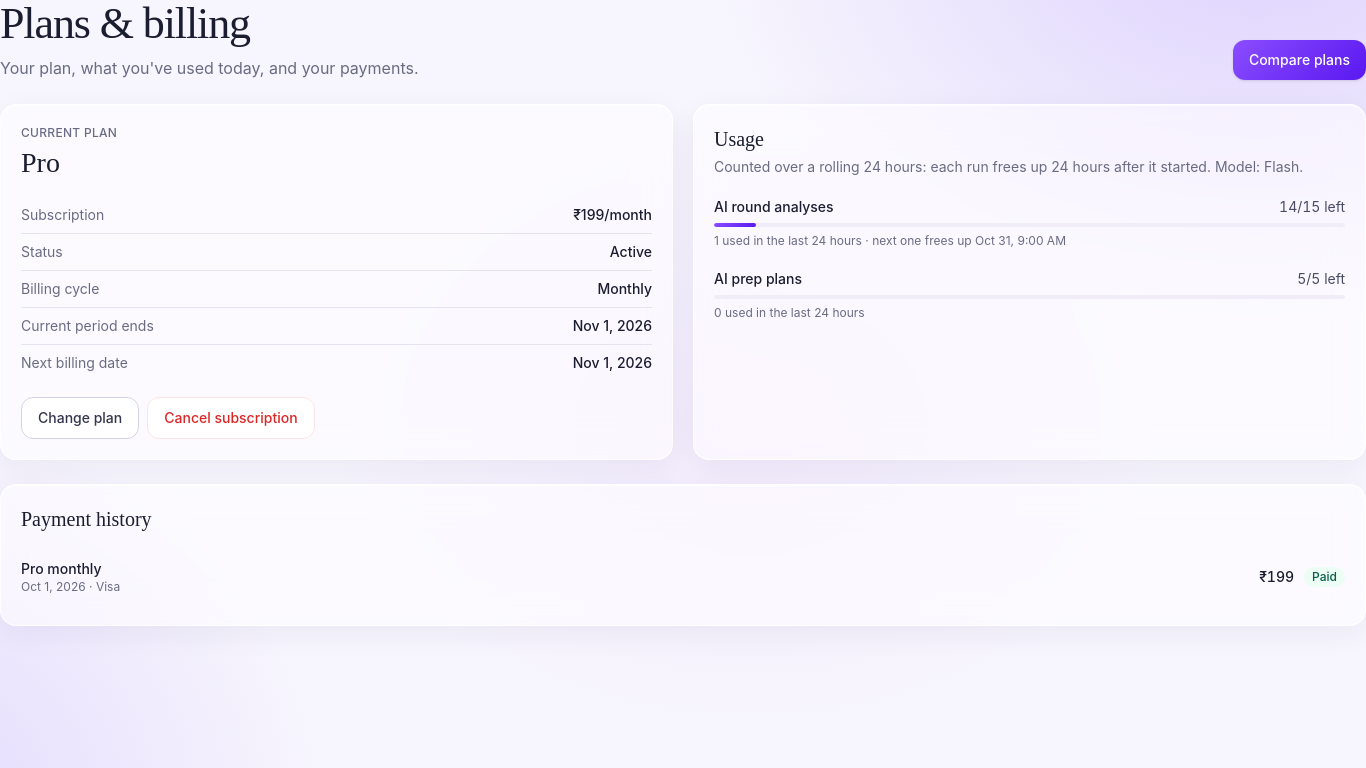
Scenario: billing dashboard › can cancel straight away
Click the button "Cancel subscription" at (231, 418), box [147, 397, 315, 439]
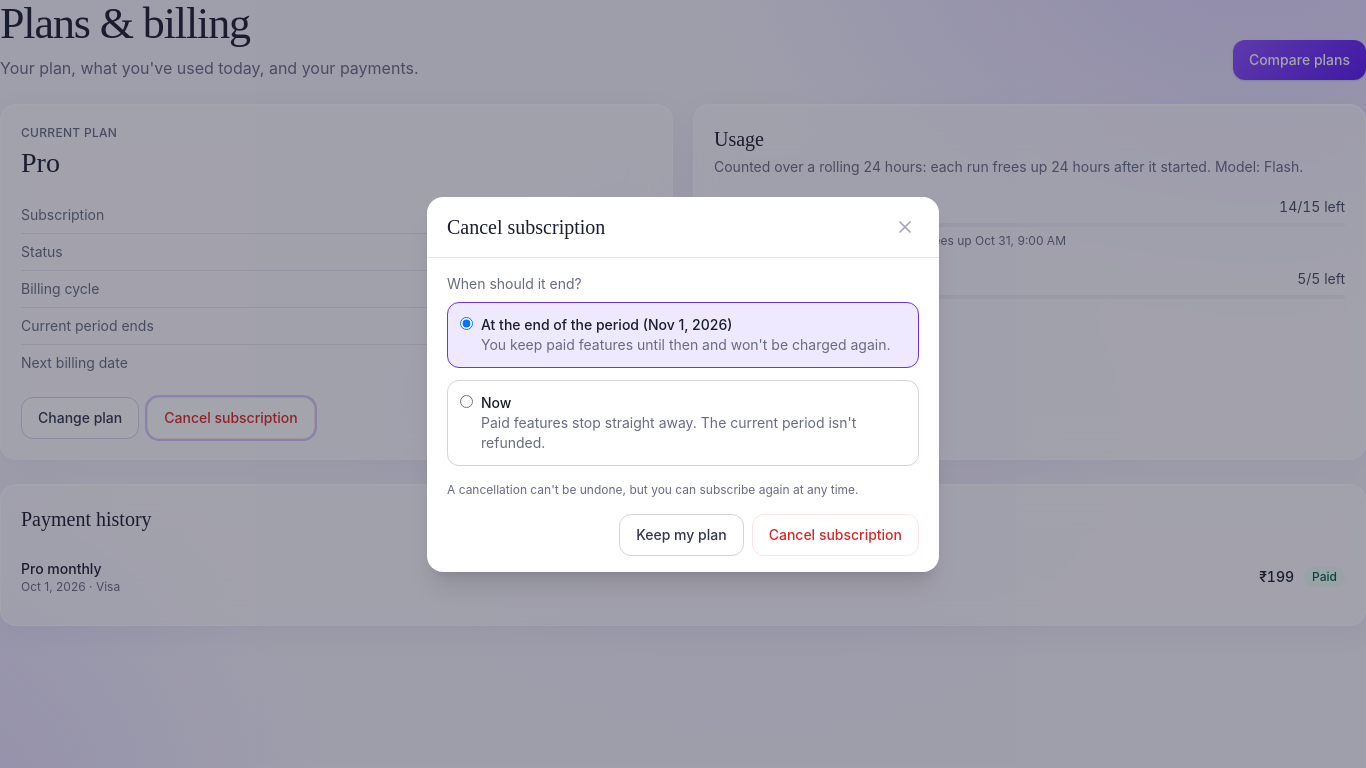
Click the radio button labelled "Now" at (466, 401), box [460, 394, 473, 408]
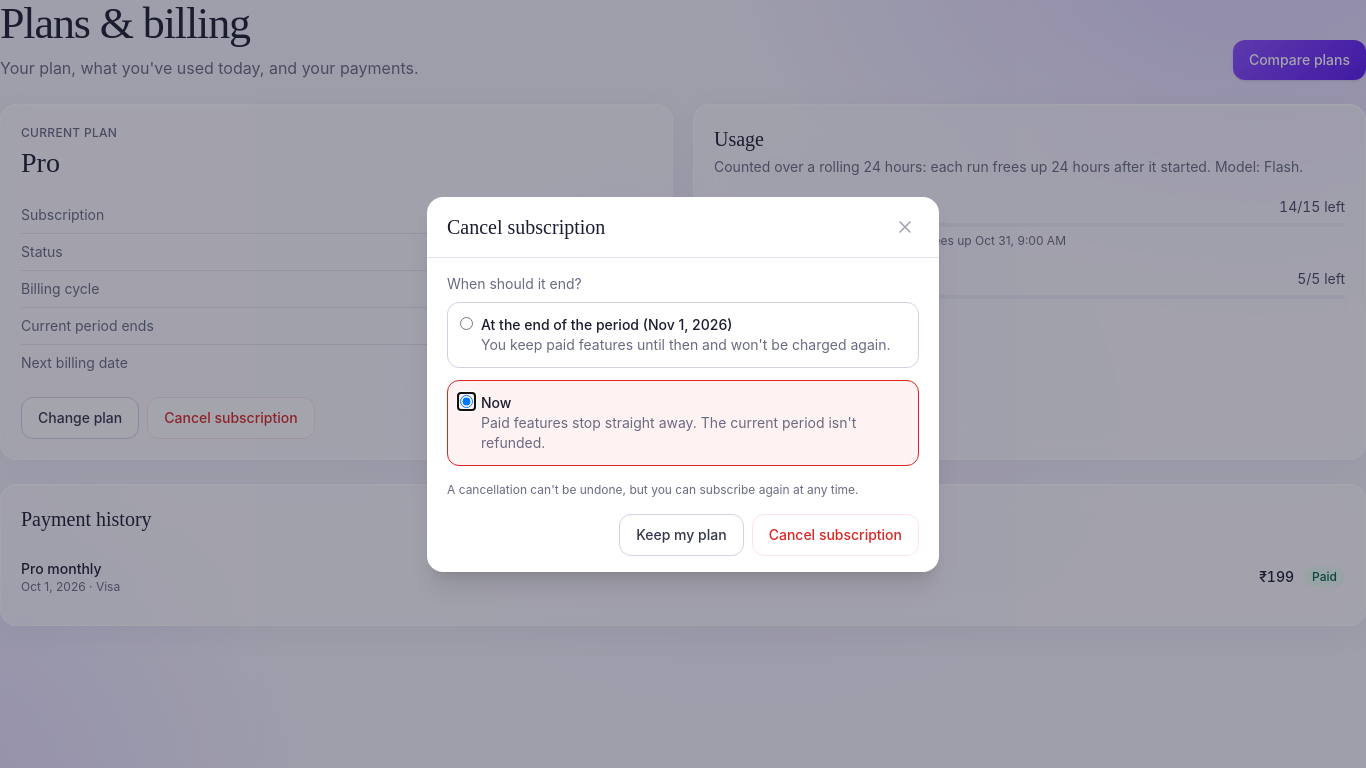
Click the button "Cancel subscription" at (835, 534), box [752, 514, 919, 556]
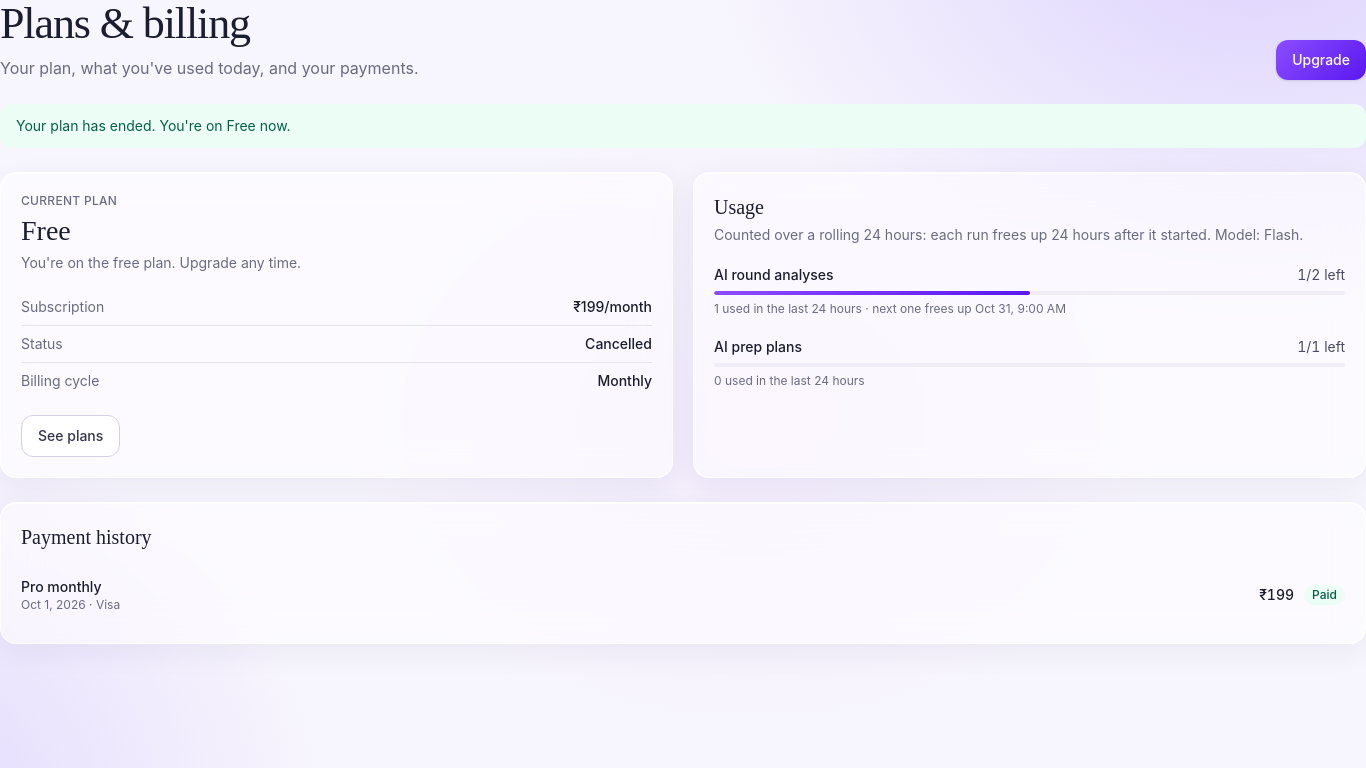
Now the text "Your plan has ended. You're on Free now." is shown, box [16, 116, 291, 136]
